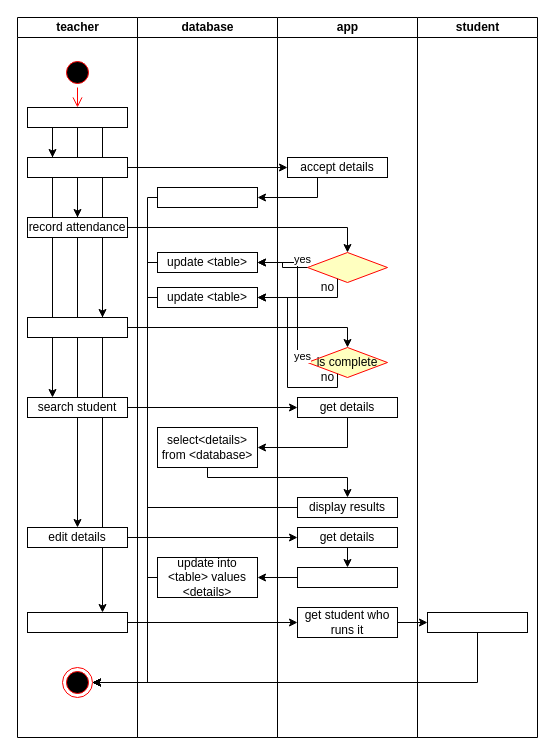
This 555x755 diagram has some shape labels left out. The shapes that lost their labels are listed below. From the top down, each one's centre as x and y in pixels, then its label:
At point 77,117: "use app".
At point 77,167: "add student".
At point 207,197: "insert into<table>".
At point 347,267: "is present".
At point 77,327: "update tasks".
At point 347,577: "get new details".
At point 77,622: "enter test".
At point 477,622: "run test".
